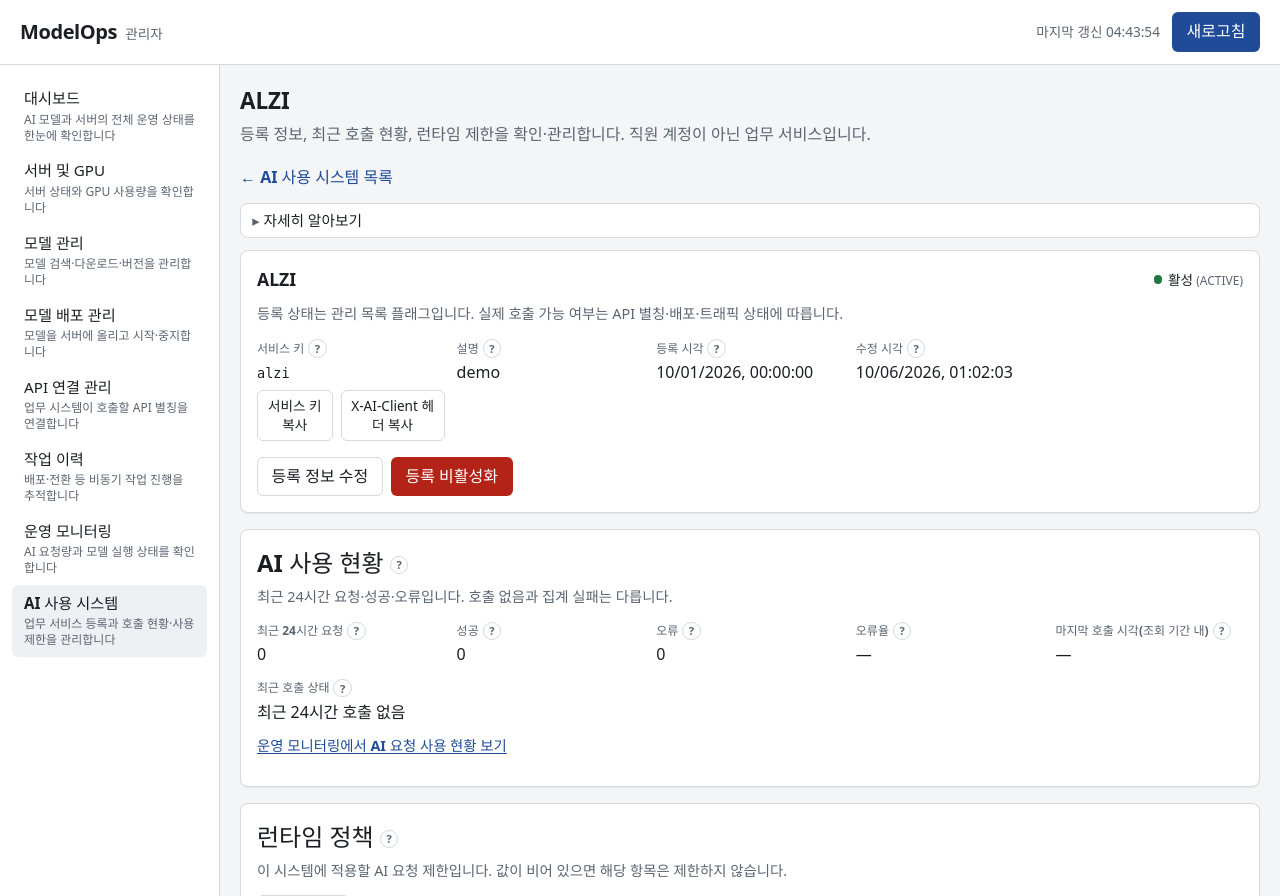
Test: ClientDetailPage › blocks PATCH when preflight GET fails
The width and height of the screenshot is (1280, 896).
Click the button "등록 정보 수정": (320, 477) [257,457,383,496]
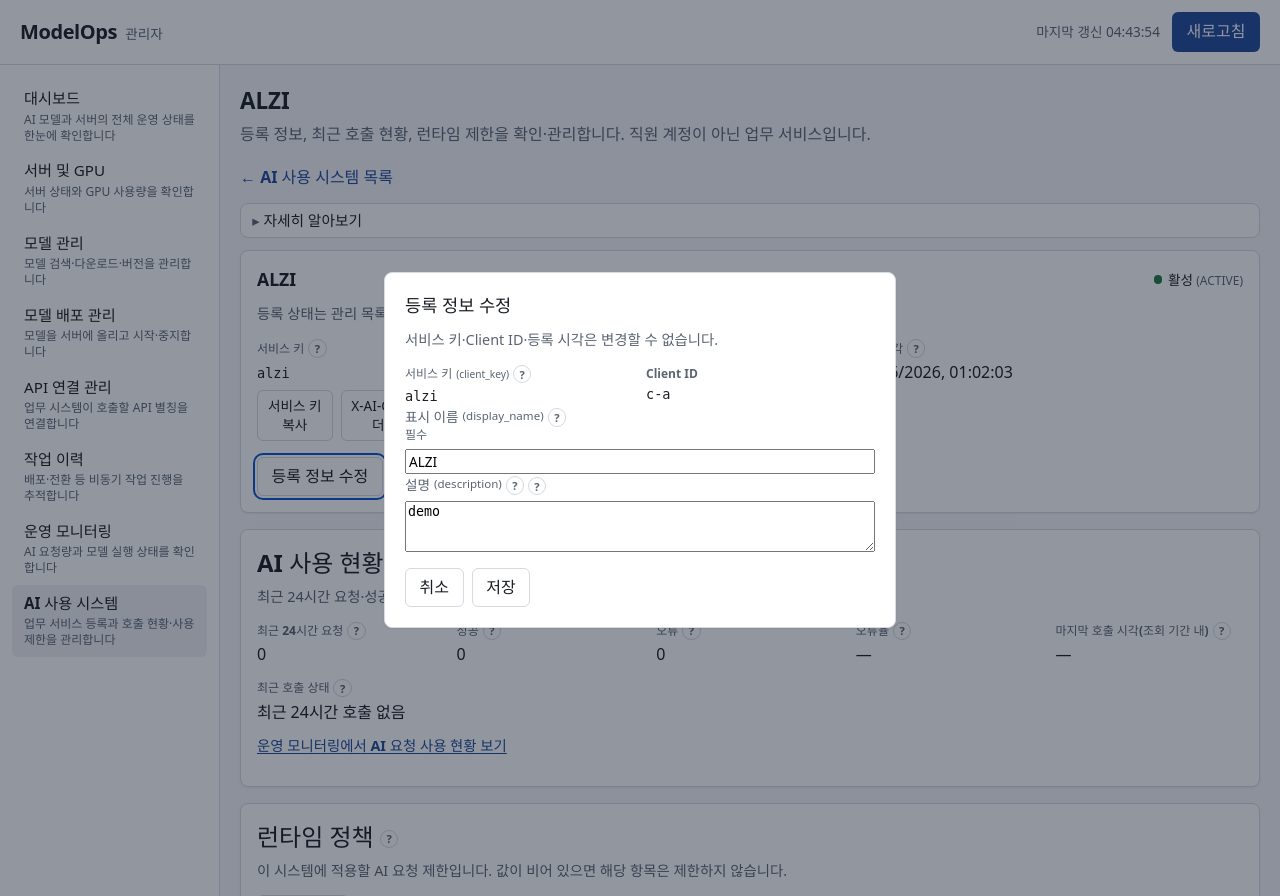
Replace the text in the field labelled "표시 이름 (display_name) ? 필수" with "Changed": (640, 461) [405,449,875,474]
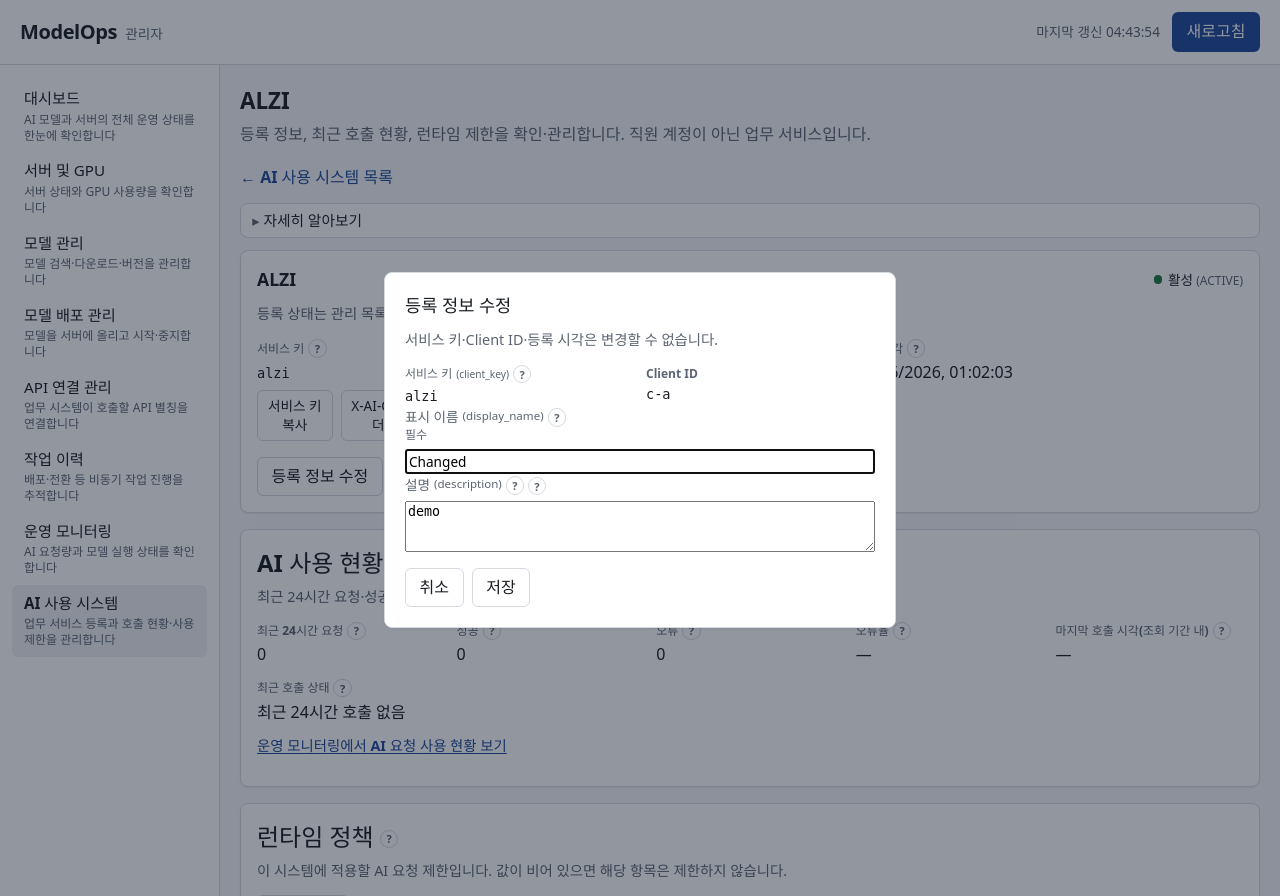
Click the button "저장": (501, 588) [472,568,530,608]
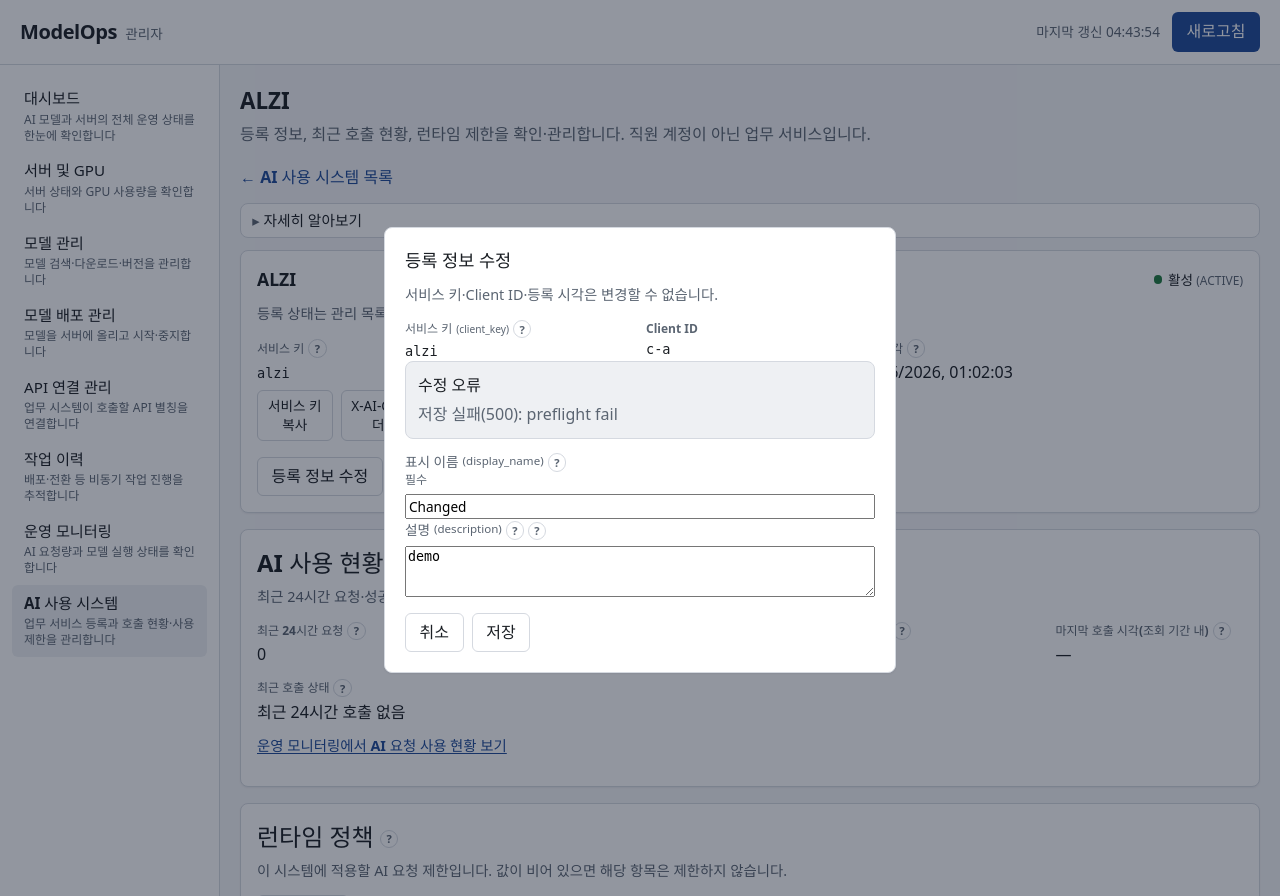
Now the text "저장 실패(500): preflight fail" is shown, box [418,403,618,425]
